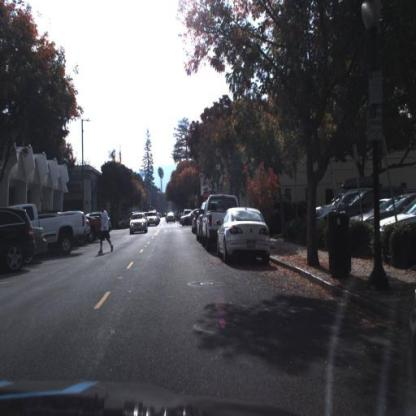car: (215, 198, 275, 271), (6, 203, 87, 257), (30, 203, 87, 253), (311, 184, 372, 224), (197, 192, 220, 254), (310, 188, 344, 220), (128, 211, 150, 237), (35, 223, 50, 260), (90, 211, 105, 242), (176, 210, 195, 228)
pedestrian: (95, 204, 114, 254)
